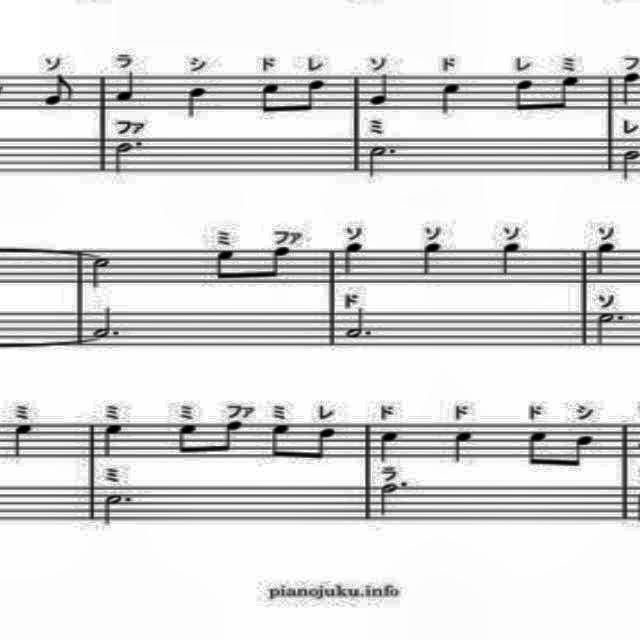Eighth-note: (39, 70, 77, 114), (552, 73, 584, 117), (506, 76, 538, 120), (308, 421, 339, 465), (169, 422, 203, 462), (213, 418, 247, 458), (258, 244, 292, 282), (564, 430, 596, 470), (254, 78, 282, 122), (521, 425, 549, 469), (267, 422, 297, 462), (210, 246, 238, 284), (304, 74, 328, 118)
Half-dot: (364, 140, 401, 184), (97, 490, 135, 532), (376, 478, 412, 522), (112, 139, 148, 177), (340, 306, 378, 342), (591, 308, 625, 348), (90, 303, 122, 341)
Half-note: (84, 252, 120, 292), (616, 145, 640, 183)
Quarter-note: (8, 421, 40, 463), (186, 81, 214, 123), (438, 78, 466, 120), (100, 421, 128, 461), (593, 240, 623, 276), (374, 426, 404, 462), (112, 69, 140, 107), (340, 239, 364, 281), (418, 240, 446, 276), (450, 428, 478, 464), (368, 70, 394, 108), (500, 241, 524, 279), (619, 70, 640, 105), (639, 70, 640, 105)
